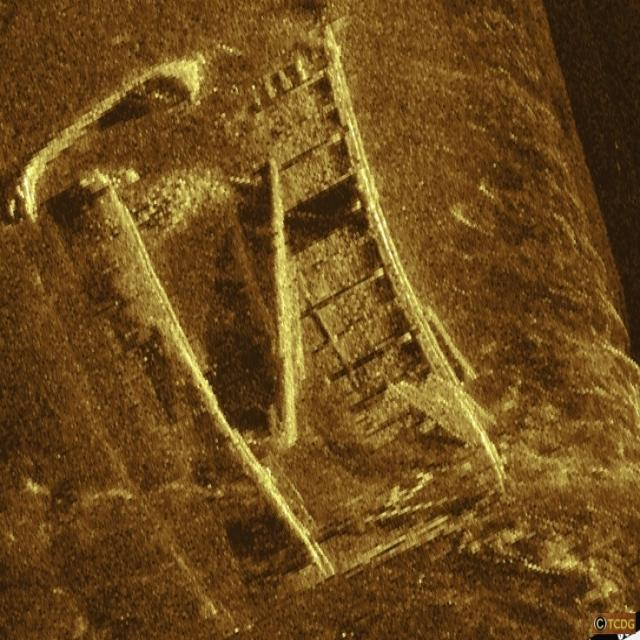shipwreck: (222, 29, 506, 499)
